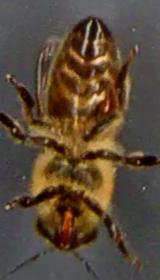varroa_mite: (88, 78, 122, 126)
